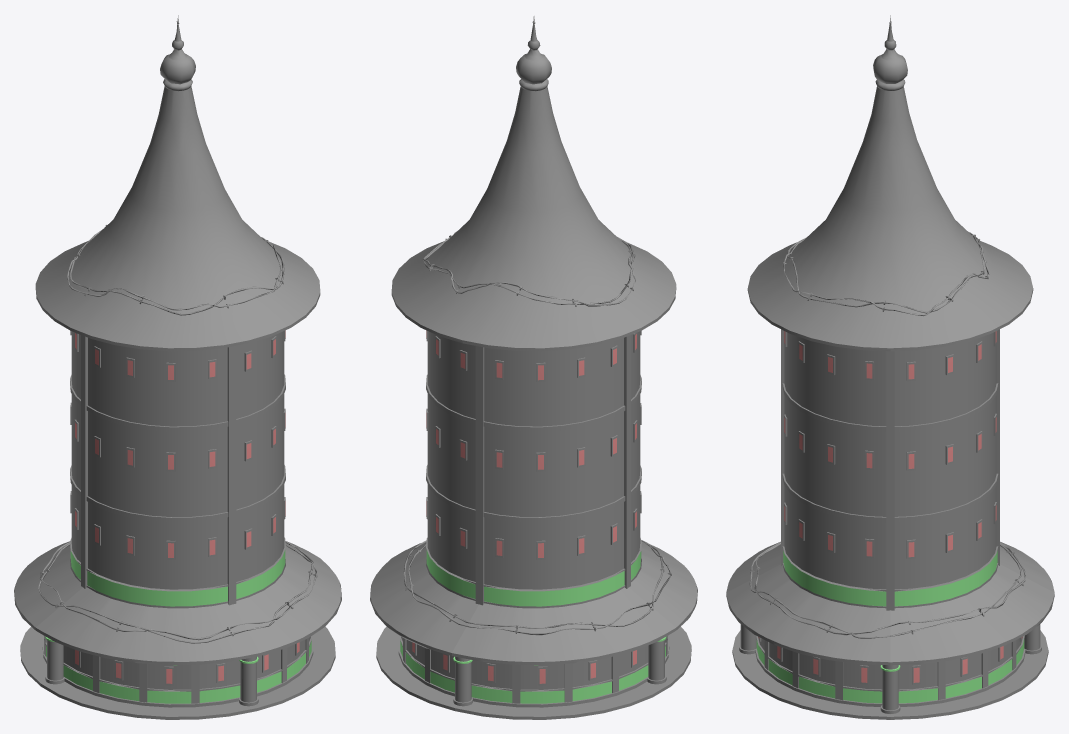
File: SM_ENV_LKNVLD_CommonBuilding_TowerA.gltf
3 renders of one model, left to right at view 1: azimuth 30°, elevation 25°; view 2: azimuth 150°, elevation 25°; view 3: azimuth 270°, elevation 25°, orthographic.
Parts seen in each view (by area): view 1: SM_ENV_LKNVLD_CommonBuilding_TowerA; view 2: SM_ENV_LKNVLD_CommonBuilding_TowerA; view 3: SM_ENV_LKNVLD_CommonBuilding_TowerA.
Part boxes in pixels (x1,y1,x2,y2): SM_ENV_LKNVLD_CommonBuilding_TowerA: (14,15,341,719); SM_ENV_LKNVLD_CommonBuilding_TowerA: (370,16,697,719); SM_ENV_LKNVLD_CommonBuilding_TowerA: (726,15,1054,719).
Size of the model in its own units: 19.73 by 42.36 by 19.73.
